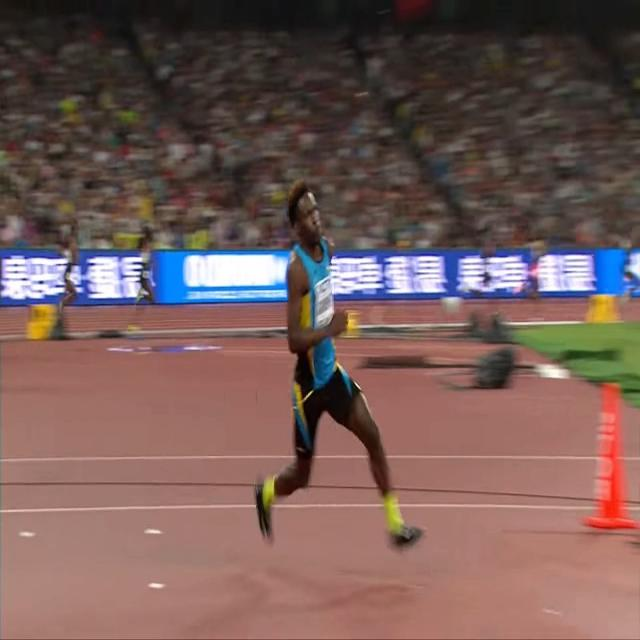run: (254, 179, 426, 552)
